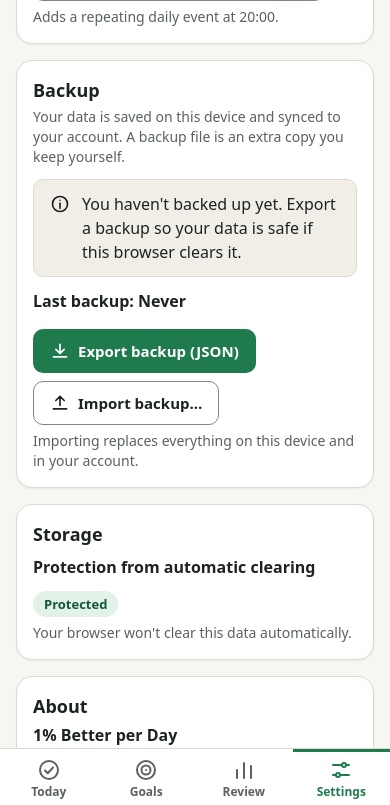
Settings — ExportSignInHint (FR-53, M8-AC3) › signed in: Export shows the toast only, no hint, no claim
(page scrolled)
Click the button "Export backup (JSON)" at (144,351), box [33,329,256,373]
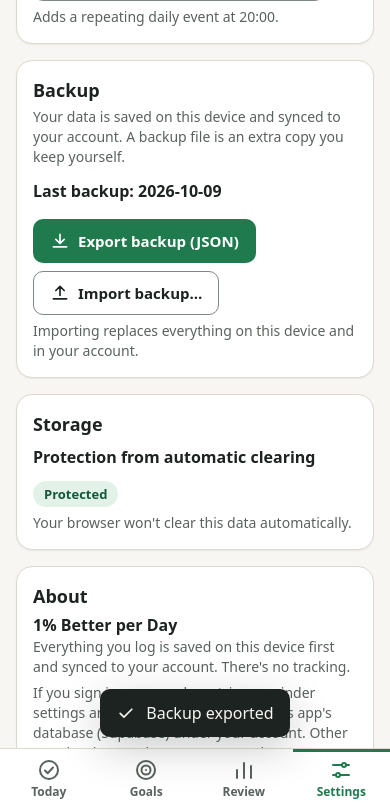
Expected: the element with test id "toast" reads "Backup exported", [146,702,274,724]
